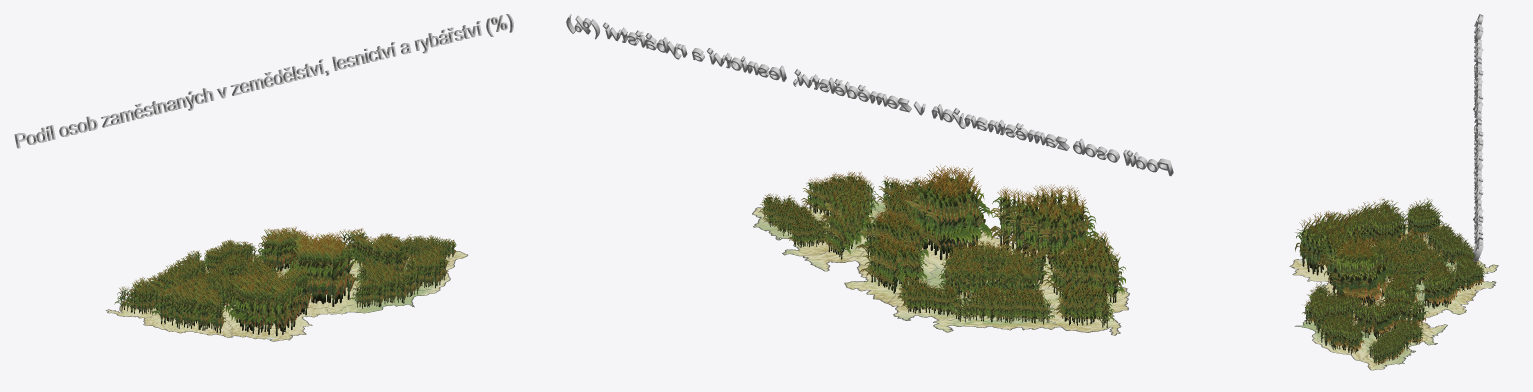
Rendered from 4_zam_v_zem_les_ryb.glb.
3 views of the same model, side by side, from view 1: azimuth 30°, elevation 25°; view 2: azimuth 150°, elevation 25°; view 3: azimuth 270°, elevation 25° (orthographic). The views are drawn at different scales.
Visible parts, largest first — view 1: Text, Relief_Map_of_Czech_Republic (1); view 2: Relief_Map_of_Czech_Republic (1), Text; view 3: Relief_Map_of_Czech_Republic (1), Text, corn.001 (×5).
Boxes of the visible parts, x1,y1,x2,y2 form: Text: (14, 14, 513, 148); Relief_Map_of_Czech_Republic (1): (106, 248, 468, 341); Relief_Map_of_Czech_Republic (1): (752, 200, 1129, 335); Text: (566, 14, 1173, 176); Relief_Map_of_Czech_Republic (1): (1289, 215, 1498, 370); Text: (1473, 14, 1483, 261); corn.001 (×5): (1300, 227, 1380, 306).
Size of the model in its own units: 31729 by 10882 by 14335.
Materials: 22 (21 with a texture image).
